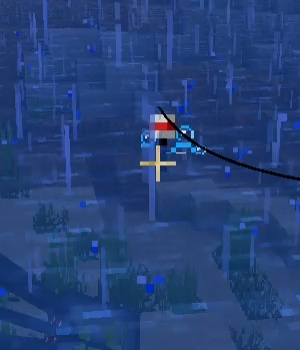up: (145, 108, 182, 154)
